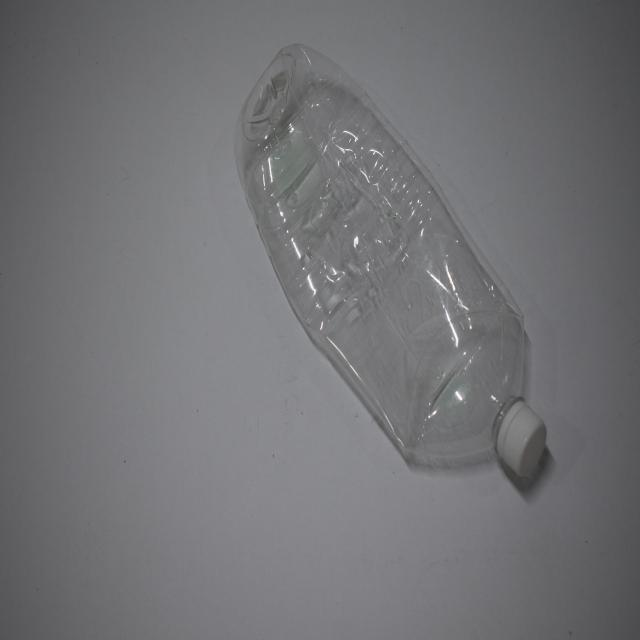empty: (235, 44, 546, 476)
